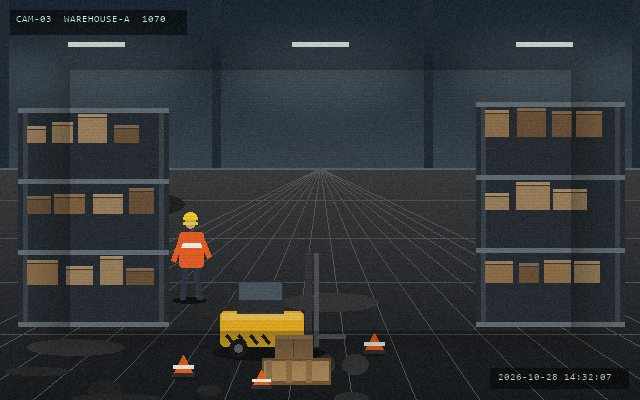cone: (171, 353, 195, 379), (362, 331, 386, 356), (250, 368, 272, 391)
forklift: (216, 251, 347, 360)
pallet: (260, 356, 332, 386)
person: (187, 254, 195, 258)
shelf: (476, 102, 624, 322), (18, 108, 168, 322)
